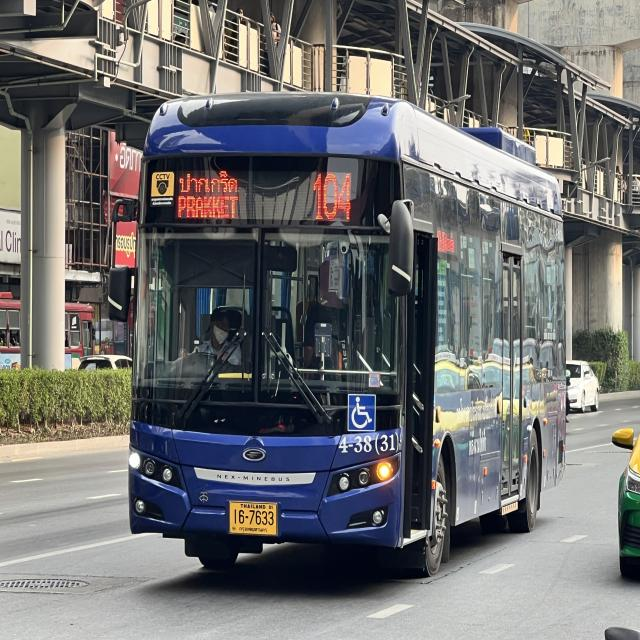Bus-Line-Number: (305, 163, 362, 226)
Destination-Sign-Normal: (171, 167, 249, 226)
TSB-Bus: (126, 78, 572, 606)
